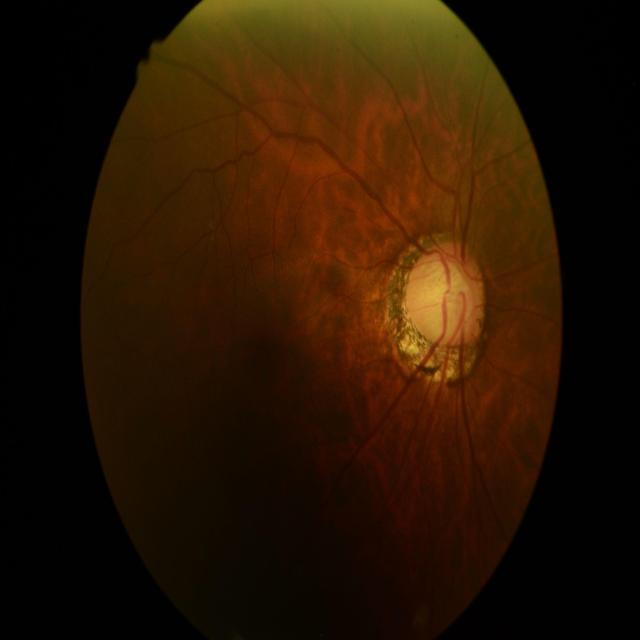cup: (414, 254, 474, 340)
disk: (408, 242, 490, 348)
